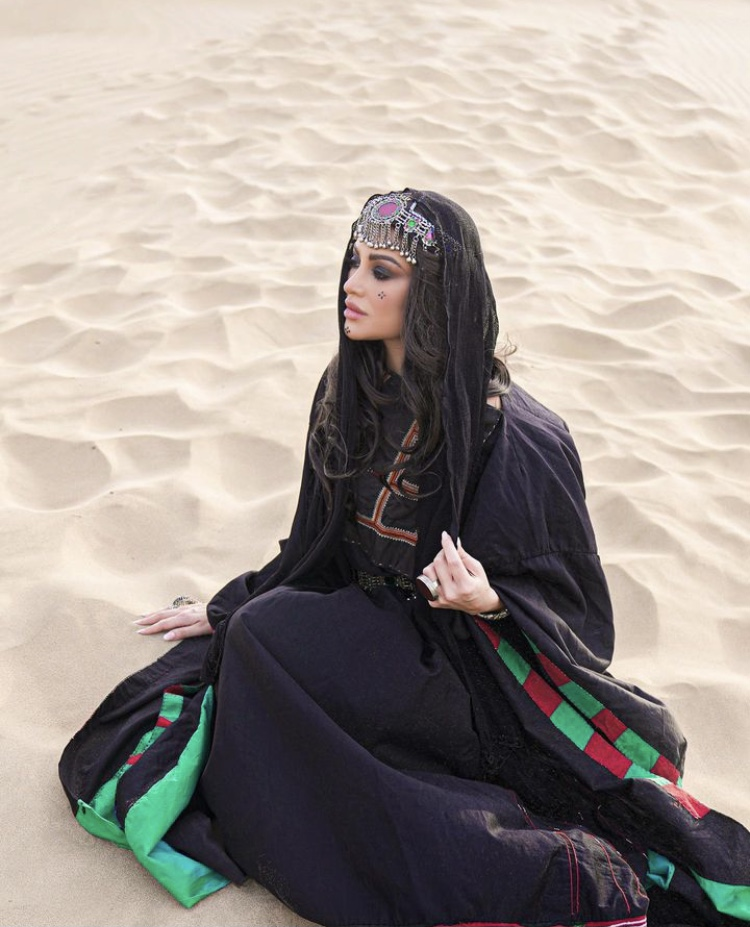Saudi_Founding_Day: (57, 182, 750, 927)
